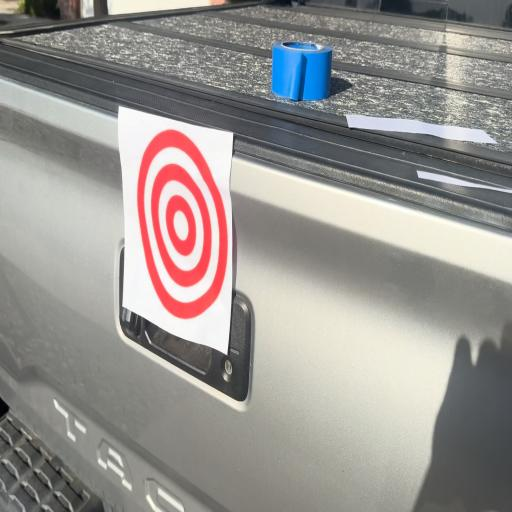bullseye: (133, 112, 233, 354)
